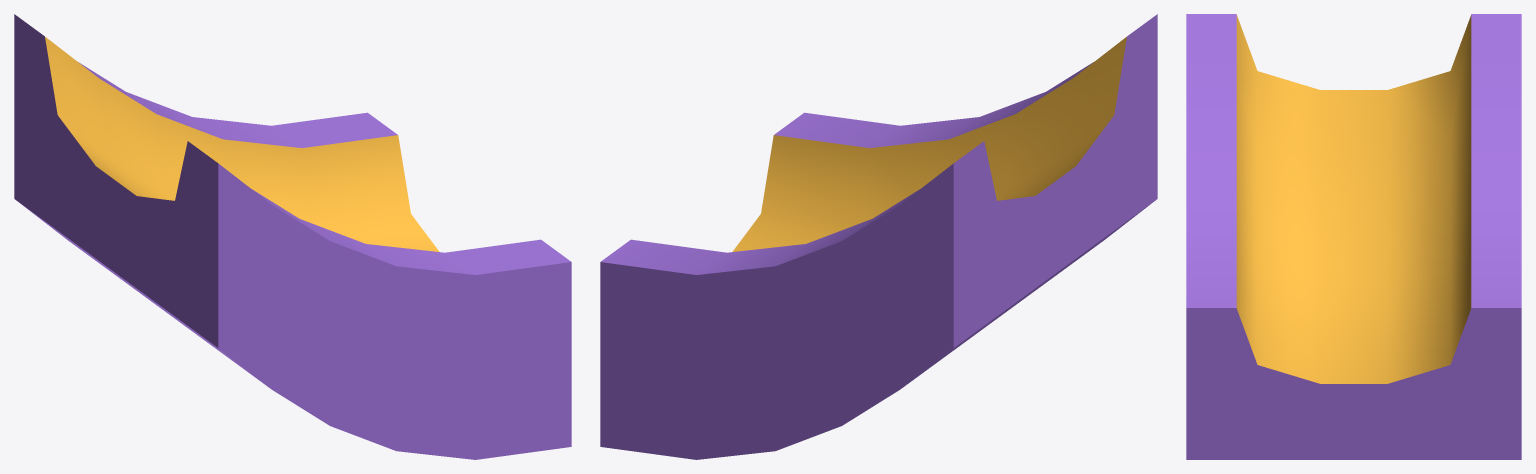
File: ramp-start-c-col.glb
3 renders of one model, left to right at view 1: azimuth 30°, elevation 25°; view 2: azimuth 150°, elevation 25°; view 3: azimuth 270°, elevation 25°, orthographic. The views are drawn at different scales.
Parts seen in each view (by area): view 1: ramp-start-c-col; view 2: ramp-start-c-col; view 3: ramp-start-c-col.
Part boxes in pixels (bbox=[...]): ramp-start-c-col: bbox=[14, 14, 571, 459]; ramp-start-c-col: bbox=[600, 14, 1157, 459]; ramp-start-c-col: bbox=[1186, 14, 1521, 459].
Size of the model in its own units: 1 by 1 by 1.
Materials: 1 (1 with a texture image).
